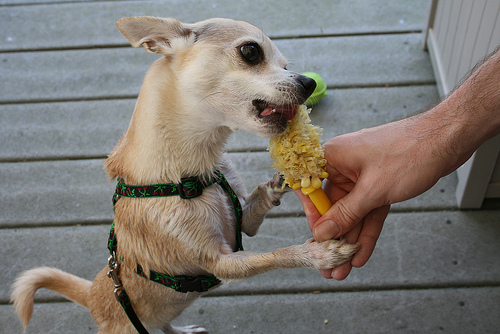corn: (274, 108, 330, 202)
